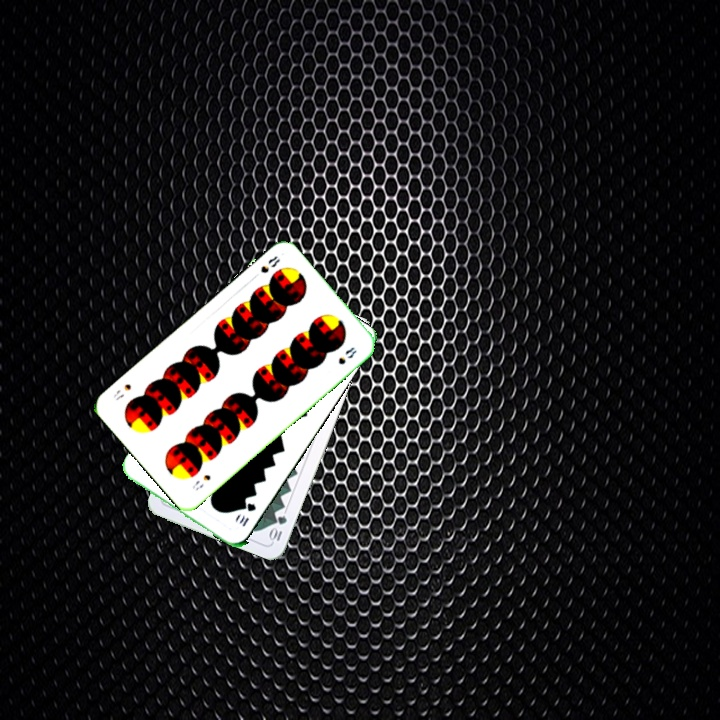G10: (265, 511, 290, 544), (236, 499, 259, 529)
S8: (257, 252, 283, 276), (188, 470, 213, 493)
